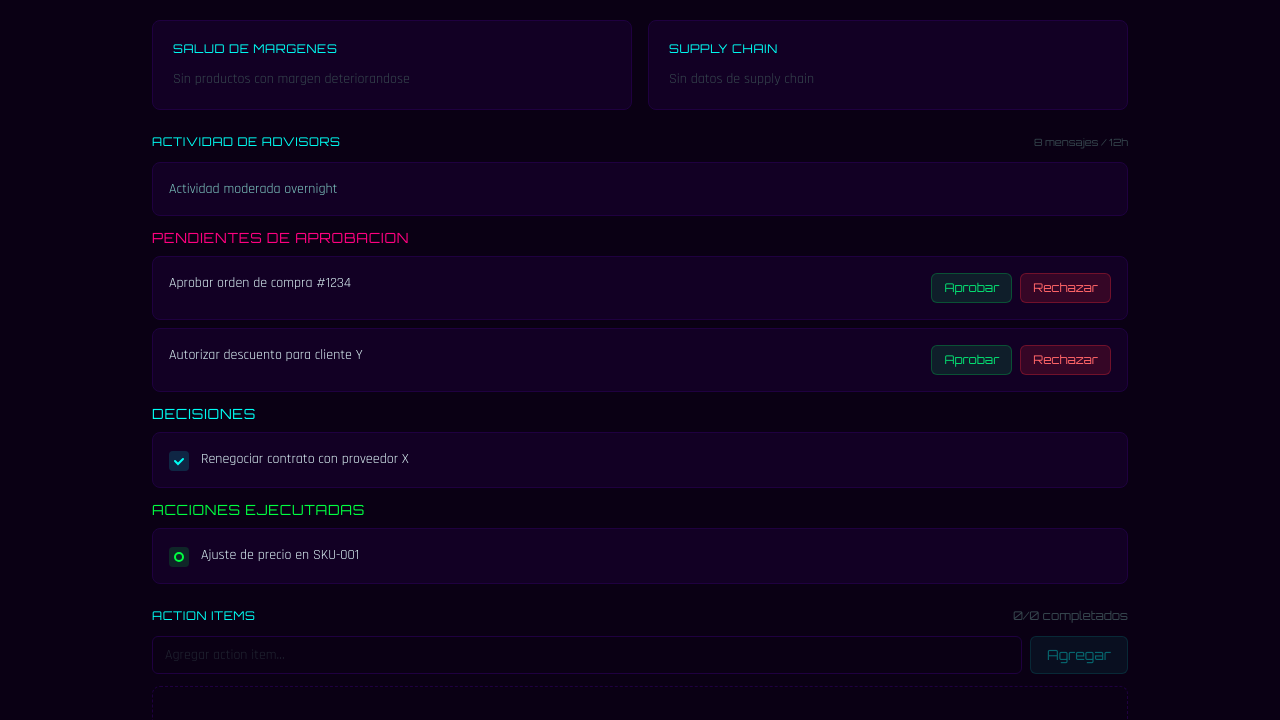
Test: PulseDashboardPage › reject button changes state to Rechazado
(page scrolled)
Click the button with test id "reject-btn" at (1066, 360), box [1020, 345, 1111, 375]
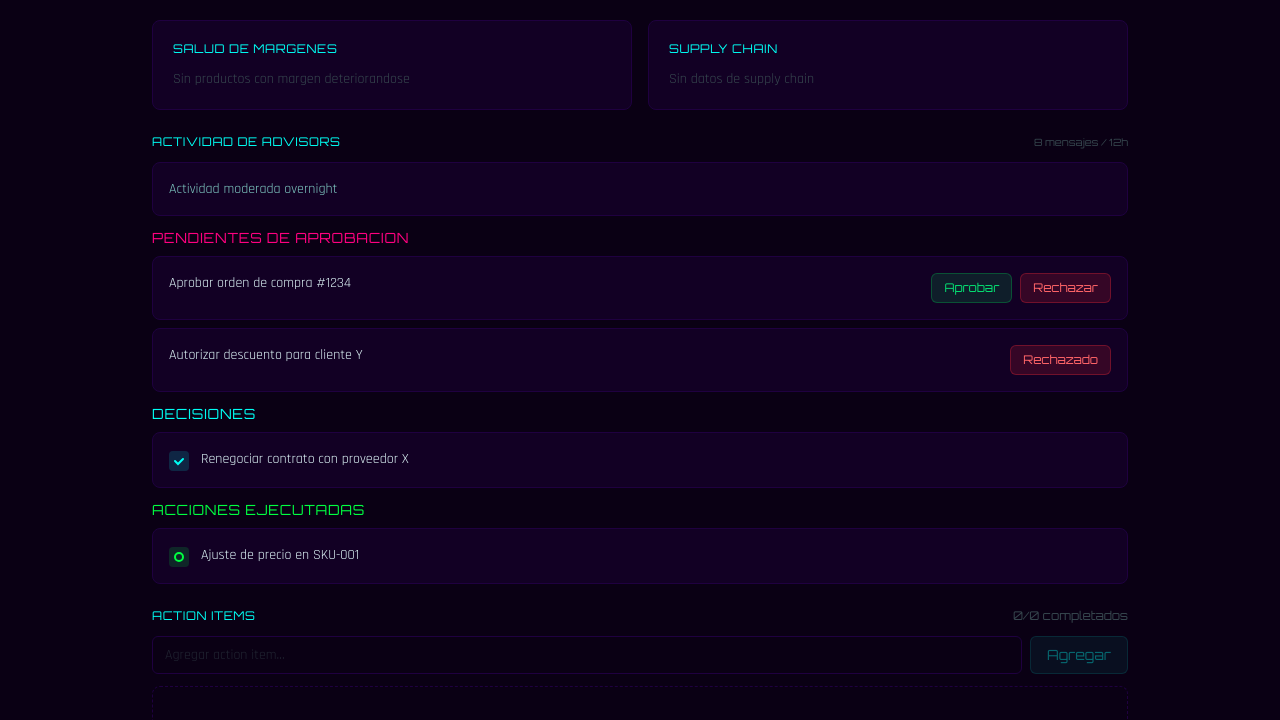
Expected: the text "Rechazado" is shown, [1010, 345, 1111, 375]
